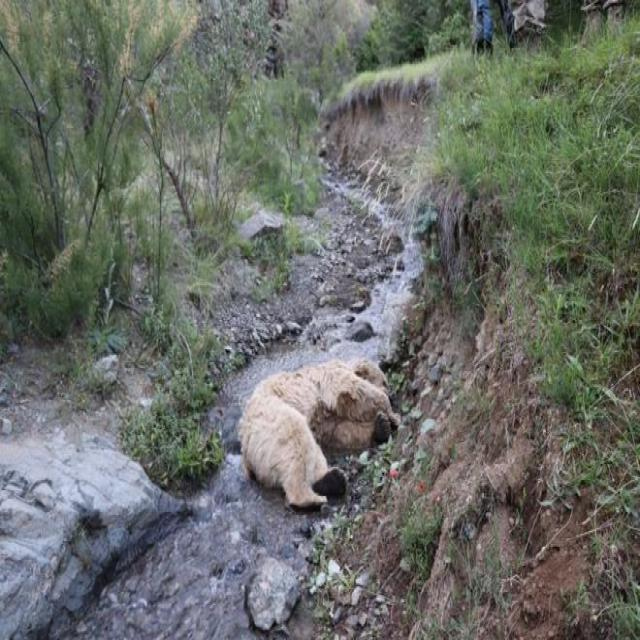Bear: (238, 361, 400, 513)
